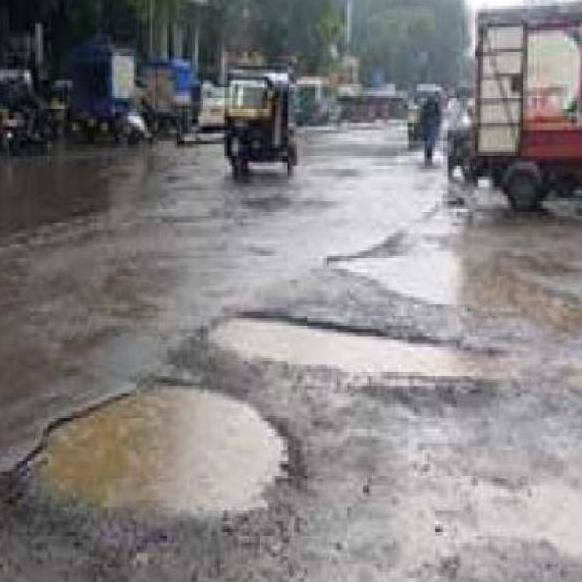pothole: (31, 350, 308, 538), (189, 288, 522, 396)
